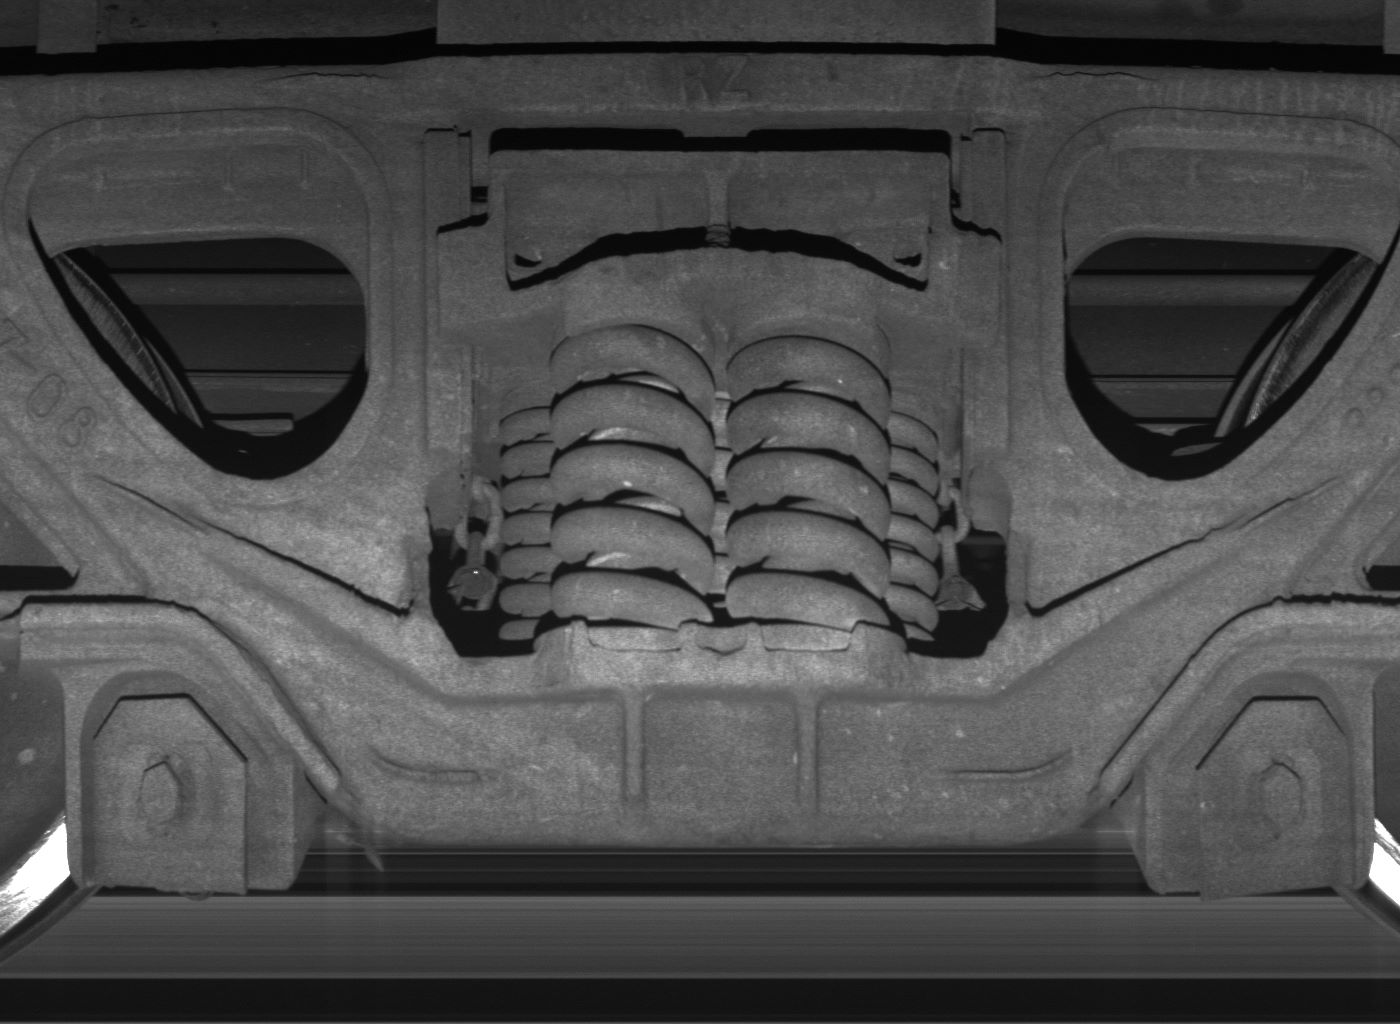Locking plate: (1142, 673, 1373, 903)
normal: (64, 667, 291, 894)
